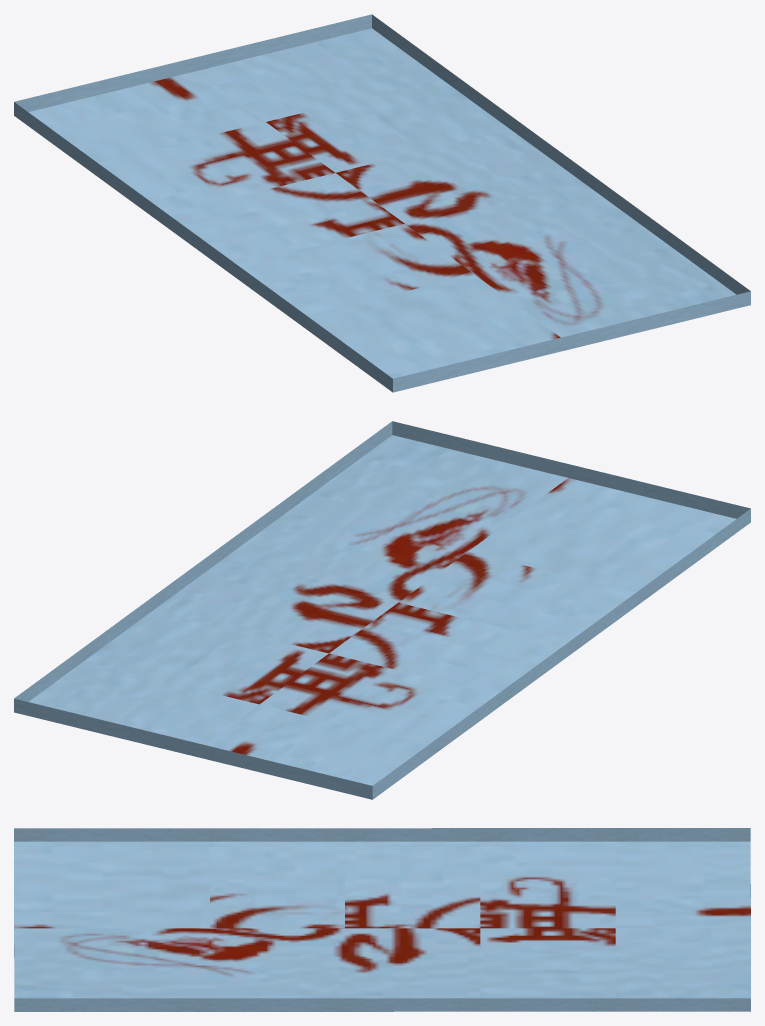
3 views of the same model, one above another, from view 1: azimuth 30°, elevation 25°; view 2: azimuth 150°, elevation 25°; view 3: azimuth 270°, elevation 25° (orthographic). The views are drawn at different scales.
Parts seen in each view (by area): view 1: Joint_0_Object_0; view 2: Joint_0_Object_0; view 3: Joint_0_Object_0.
Part boxes in pixels (x1=…): Joint_0_Object_0: x1=14, y1=14, x2=750, y2=392; Joint_0_Object_0: x1=14, y1=421, x2=750, y2=799; Joint_0_Object_0: x1=14, y1=828, x2=750, y2=1011.
Bounding box in the file's own units: 1340 × 49.67 × 2451.
